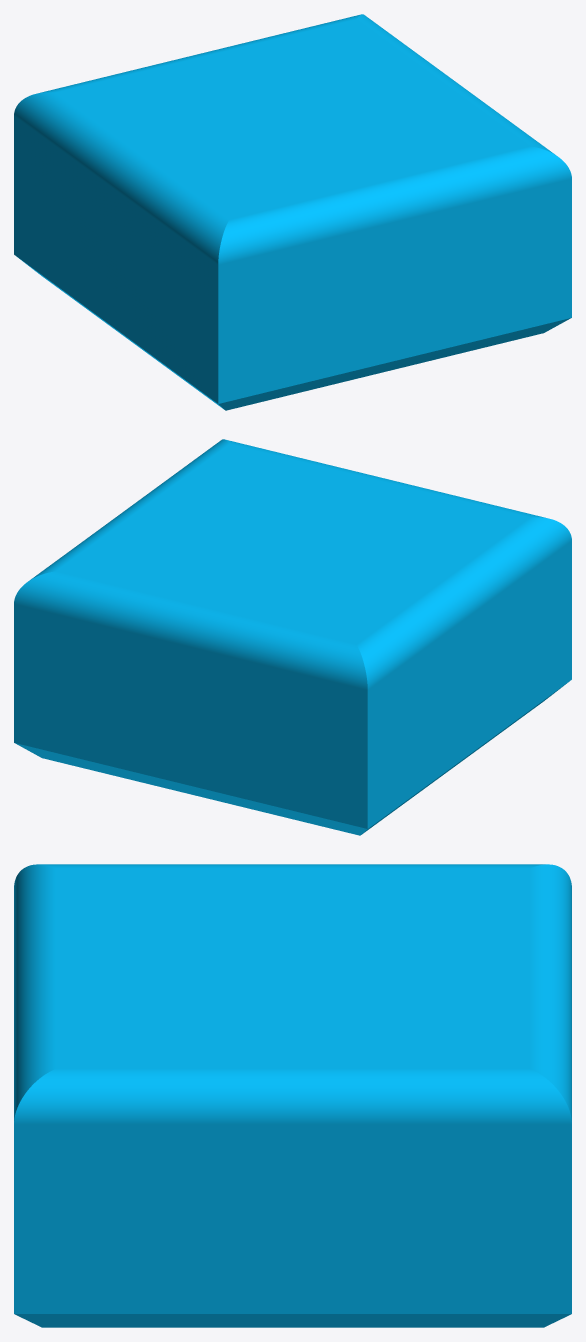
The model's file is chamfer_and_fillet.gltf.
3 renders of one model, top to bottom at view 1: azimuth 30°, elevation 25°; view 2: azimuth 150°, elevation 25°; view 3: azimuth 270°, elevation 25°, orthographic. The views are drawn at different scales.
Parts seen in each view (by area): view 1: Gövde; view 2: Gövde; view 3: Gövde.
Boxes of the visible parts, x1=… form: Gövde: x1=14, y1=14, x2=571, y2=410; Gövde: x1=14, y1=439, x2=571, y2=835; Gövde: x1=14, y1=864, x2=571, y2=1327.
Size of the model in its own units: 0.04 by 0.02 by 0.04.
